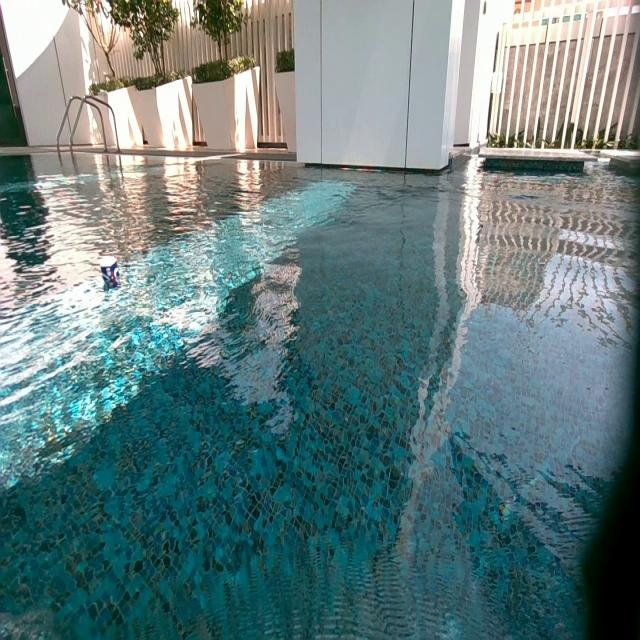Cans: (102, 256, 121, 285)
